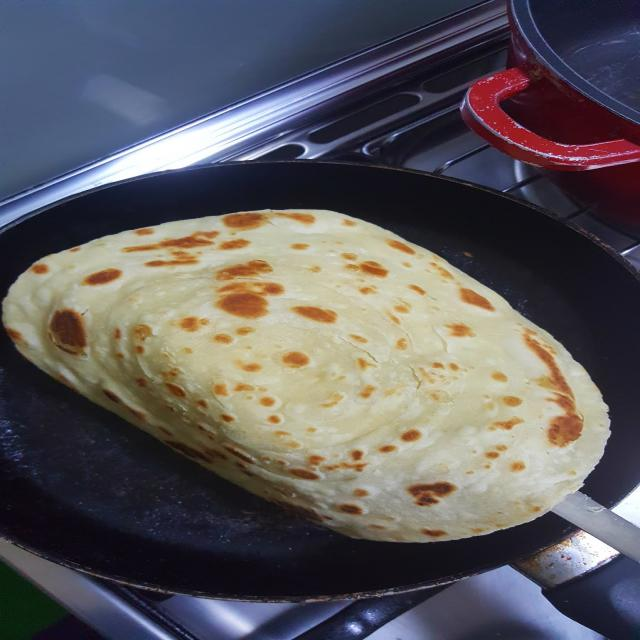roti: (0, 205, 622, 541)
